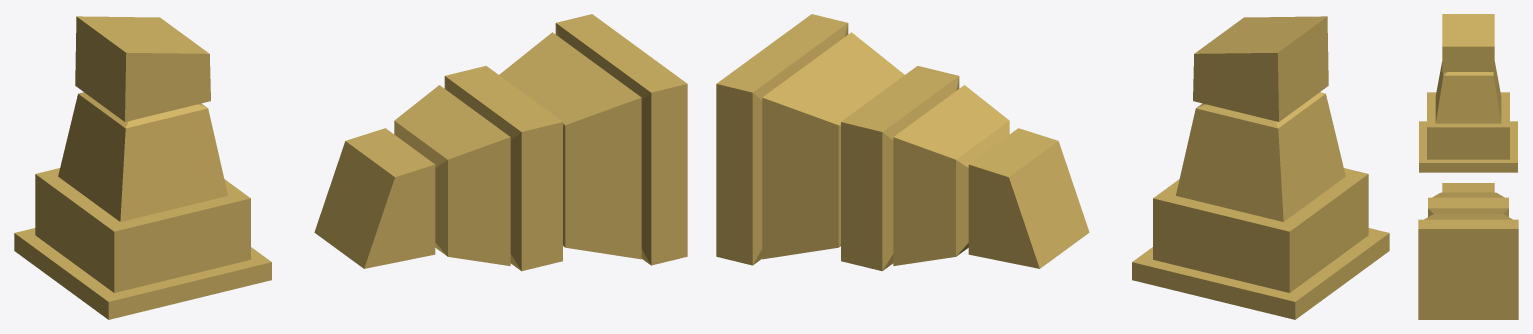
The model's file is Pillar1_Broken.fbx.
3 renders of one model, left to right at view 1: azimuth 30°, elevation 25°; view 2: azimuth 150°, elevation 25°; view 3: azimuth 270°, elevation 25°, orthographic. The views are drawn at different scales.
Visible parts, largest first — view 1: Pillar1_Broken2, Pillar1_Broken; view 2: Pillar1_Broken2, Pillar1_Broken; view 3: Pillar1_Broken2, Pillar1_Broken.
Part boxes in pixels (x1,y1,x2,y2): Pillar1_Broken2: (314,14,687,271); Pillar1_Broken: (14,16,271,319); Pillar1_Broken2: (716,14,1089,271); Pillar1_Broken: (1132,16,1389,319); Pillar1_Broken2: (1418,183,1518,319); Pillar1_Broken: (1419,14,1517,172).
Size of the model in its own units: 577 by 304 by 165.
